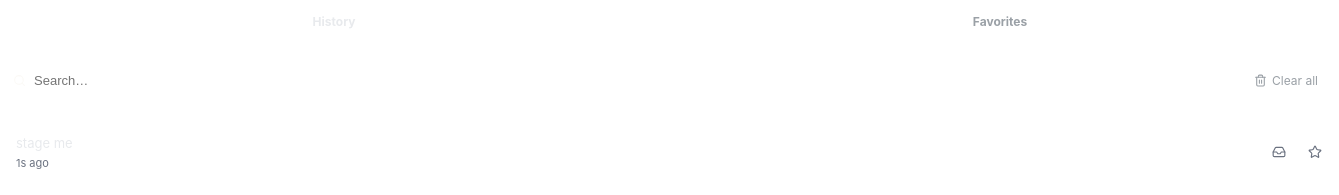
Scenario: ClipboardHistoryView › stages an entry into the file station and shows row feedback
Click the button named "Stage in file station" at coordinates (1279, 152), box [1263,126,1295,178]
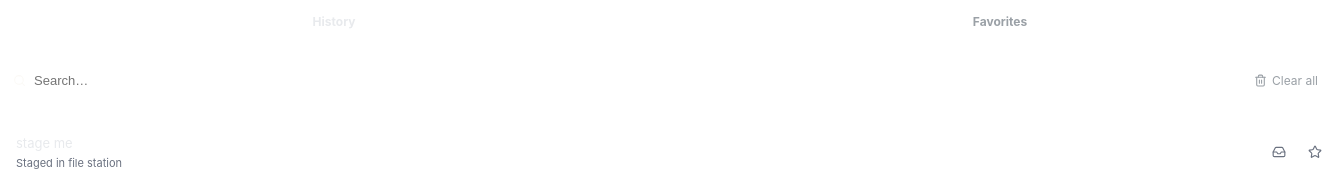
Result: the text "Staged in file station" is shown at [16,156,122,170]
